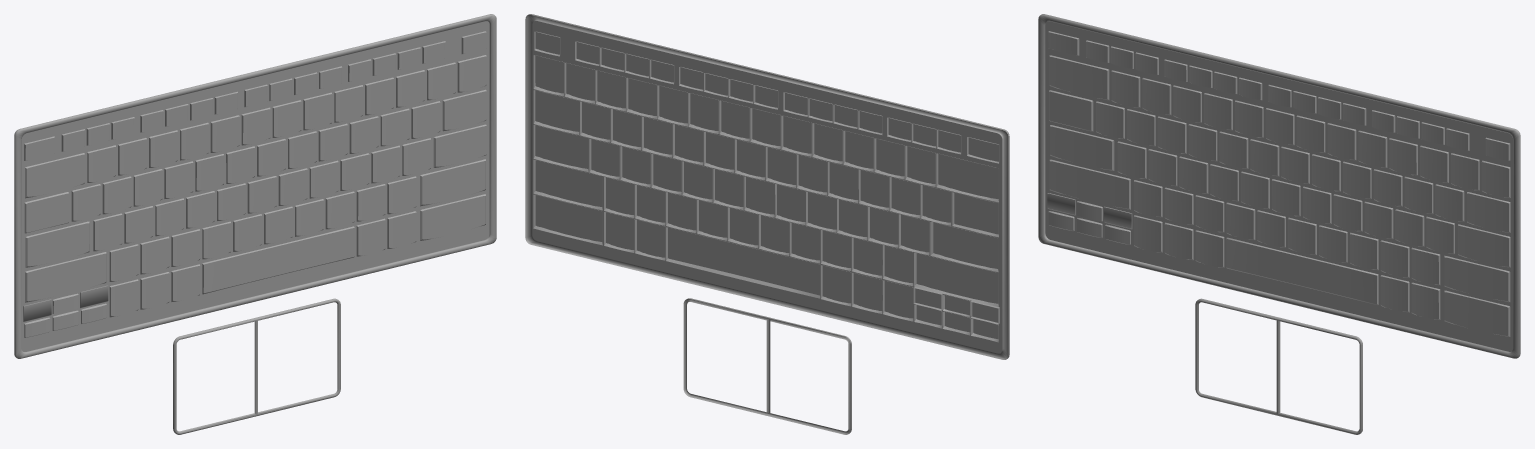
The model's file is MainMeshLaptop_19_1_GeomSubset_1.obj.
The picture shows the model from 3 angles, left to right: view 1: azimuth 30°, elevation 25°; view 2: azimuth 150°, elevation 25°; view 3: azimuth 330°, elevation 25°; orthographic projection.
Parts seen in each view (by area): view 1: MainMeshLaptop_19_1_GeomSubset_1; view 2: MainMeshLaptop_19_1_GeomSubset_1; view 3: MainMeshLaptop_19_1_GeomSubset_1.
Boxes of the visible parts, x1,y1,x2,y2 form: MainMeshLaptop_19_1_GeomSubset_1: (14,14,496,434); MainMeshLaptop_19_1_GeomSubset_1: (525,14,1009,434); MainMeshLaptop_19_1_GeomSubset_1: (1038,14,1520,434).
Bounding box in the file's own units: 0.4198 × 0.2861 × 0.0275.
